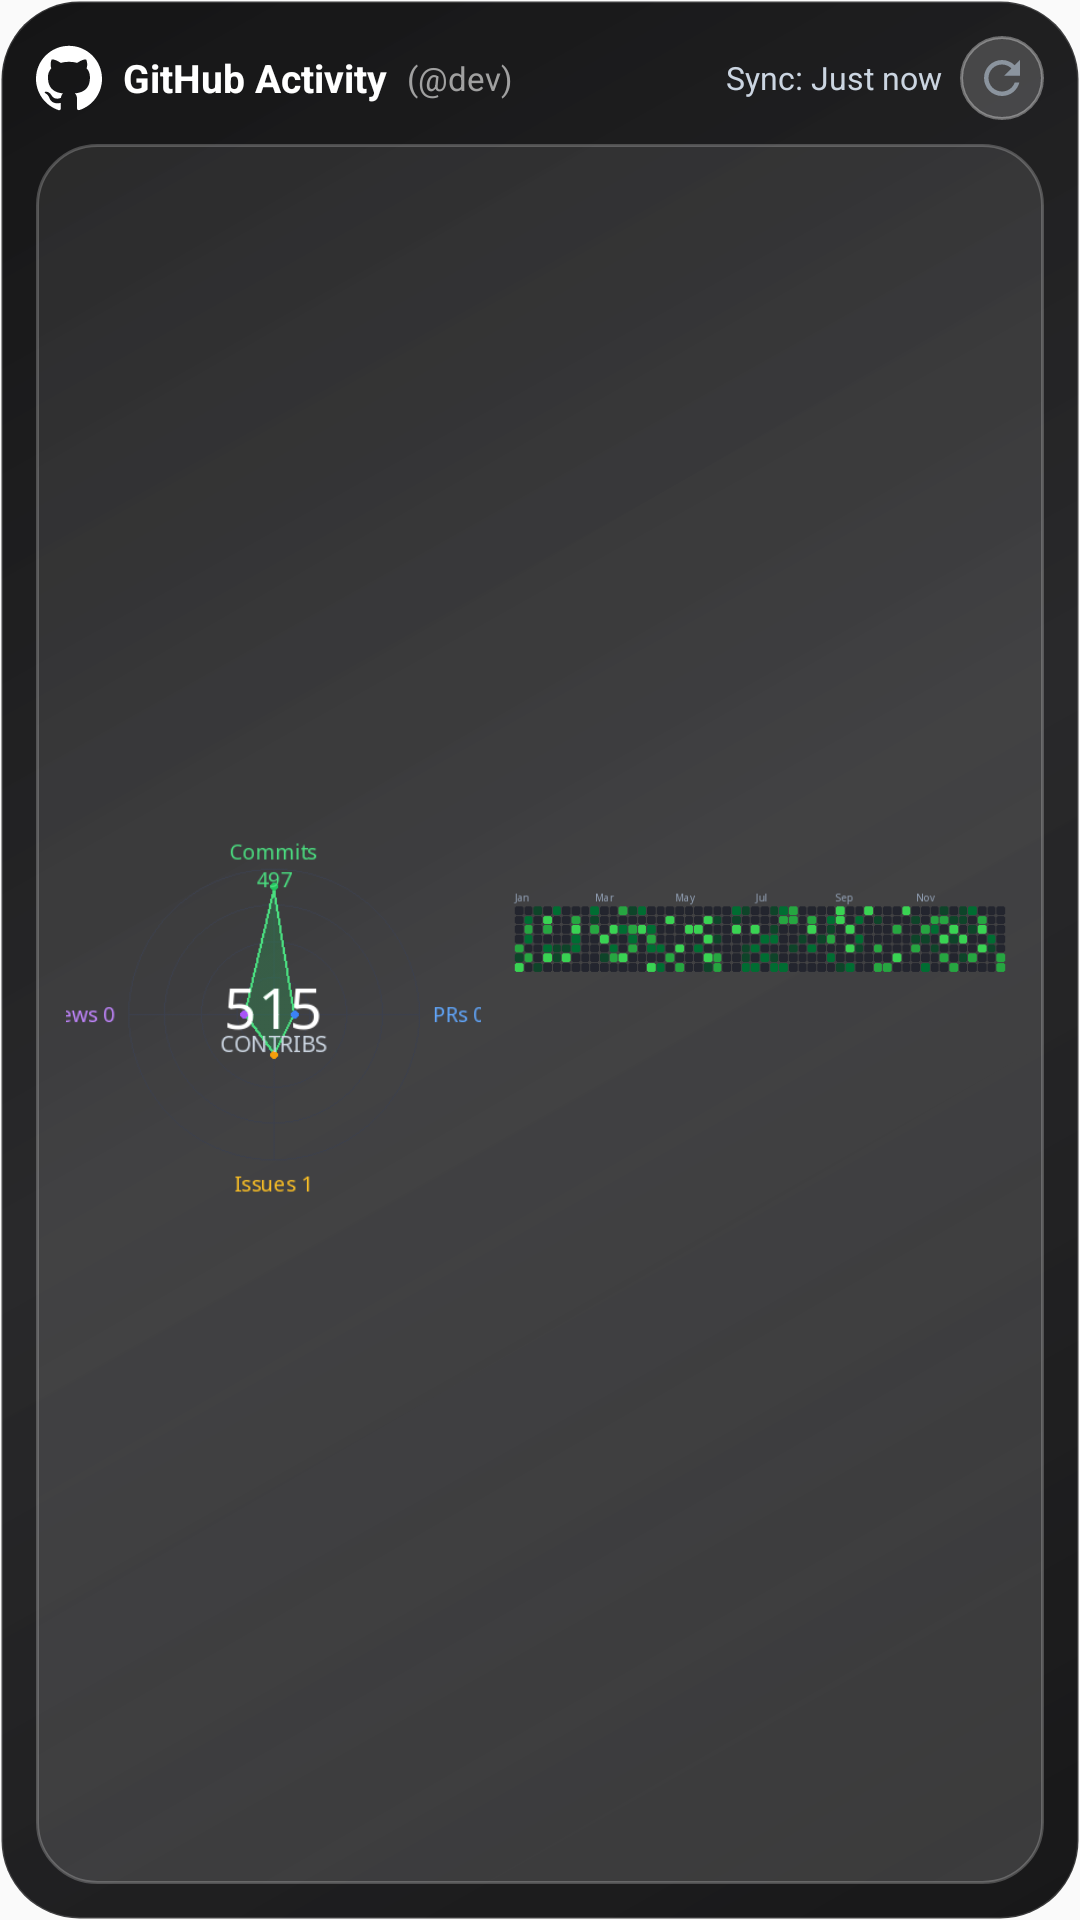

Icon bounding boxes for this 1080w x 1920h phone screenshot, format (x1, y1, x2, y2):
Refresh: (960, 36, 1044, 120)
